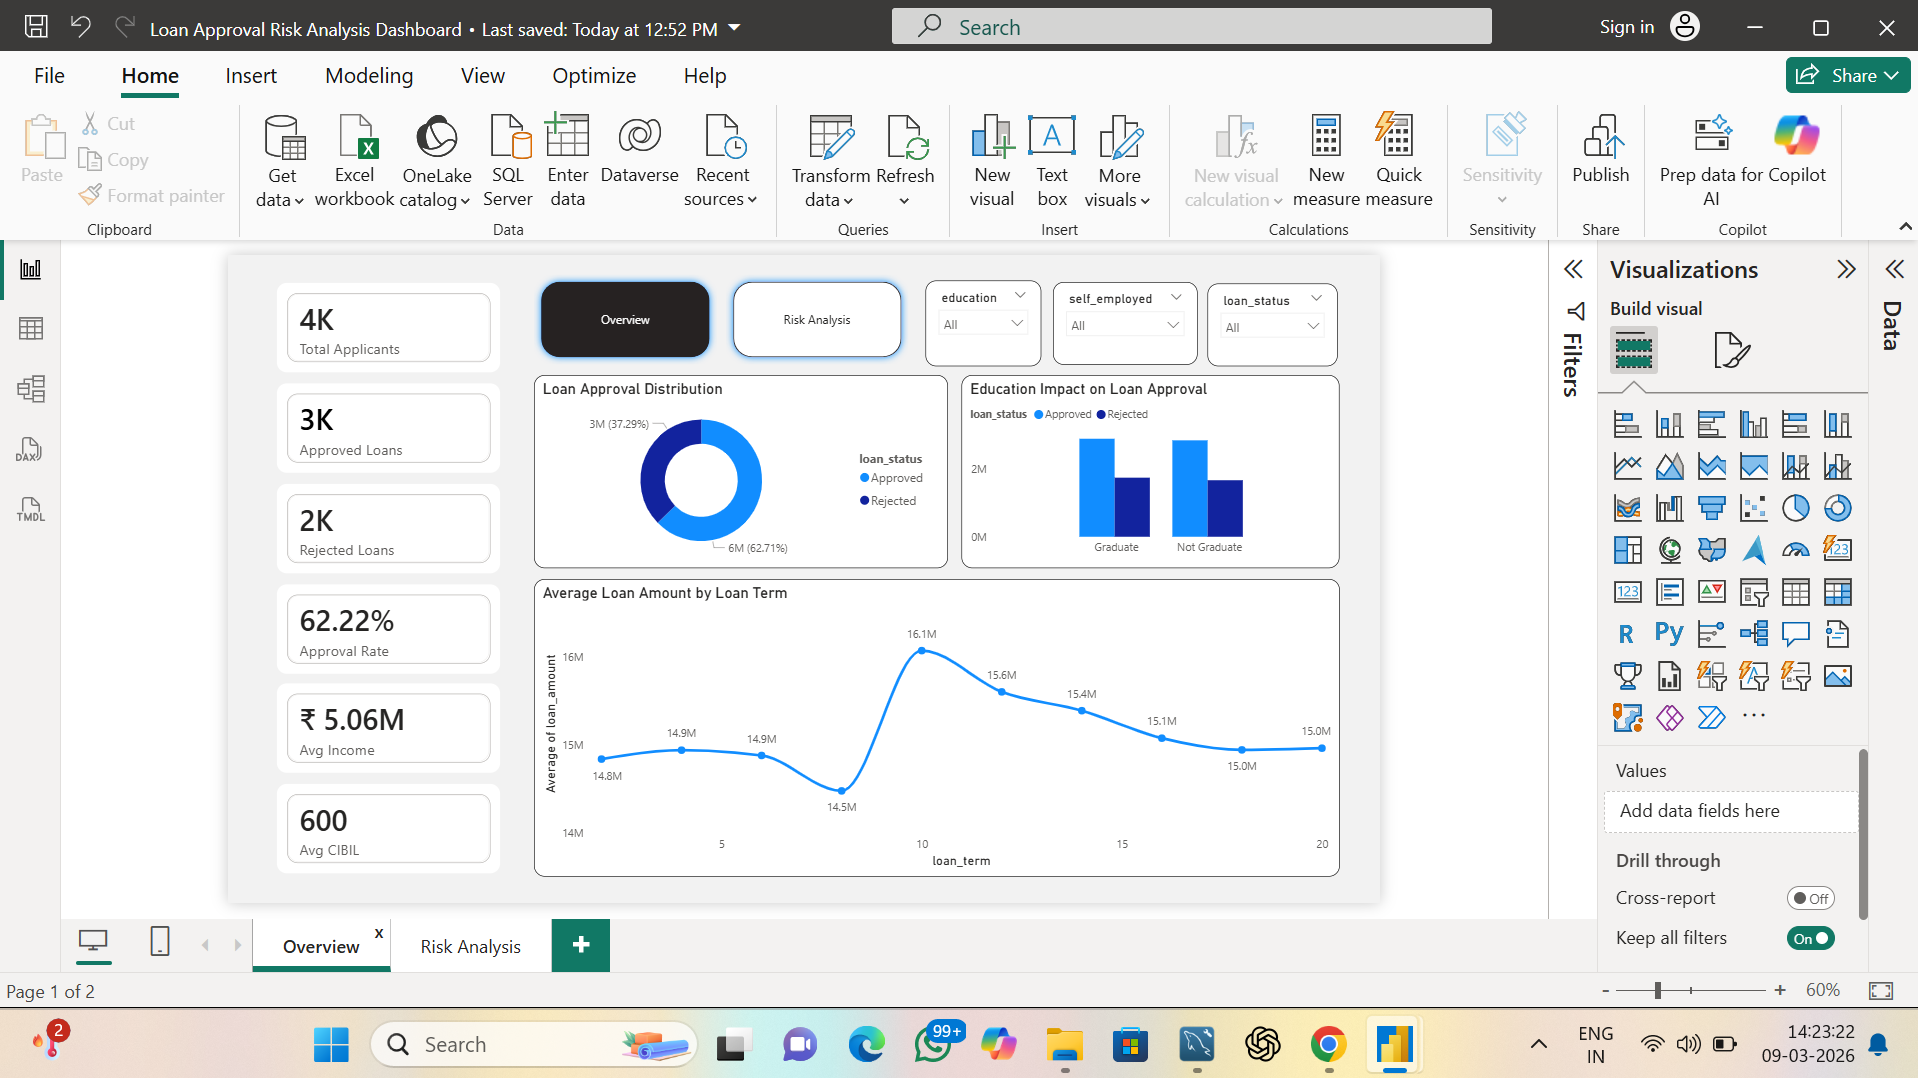

The page's visual inventory and layout, read from the dashboard file:
{"tool":"powerbi","page":{"name":"Overview","canvas":[1280,720],"ordinal":0},"visuals":[{"type":"cardVisual","fields":{"Data":["loan_data.Total Applicants"]},"box":[47.7,25.4,260.9,111.3],"z":0},{"type":"cardVisual","fields":{"Data":["loan_data.Approved Loans"]},"box":[47.7,136.8,260.9,111.3],"z":1000},{"type":"cardVisual","fields":{"Data":["loan_data.Rejected Loans"]},"box":[47.7,248.1,260.9,111.3],"z":2000},{"type":"cardVisual","fields":{"Data":["loan_data.Approval Rate"]},"box":[47.7,359.5,260.9,111.3],"z":3000},{"type":"cardVisual","fields":{"Data":["loan_data.Avg Income"]},"box":[47.7,470.8,260.9,111.3],"z":4000},{"type":"cardVisual","fields":{"Data":["loan_data.Avg CIBIL"]},"box":[47.7,582.2,260.9,111.3],"z":5000},{"type":"slicer","title":"Loan Approval Distribution","fields":{"Values":["loan_data.education"]},"box":[775.7,28.6,128.8,95.4],"z":6000},{"type":"clusteredColumnChart","title":"Education Impact on Loan Approval","fields":{"Category":["loan_data.education"],"Y":["Sum(loan_data.loan_id)"],"Series":["loan_data.loan_status"]},"box":[815.5,133.6,419.9,214.7],"z":7000},{"type":"lineChart","title":"Average Loan Amount by Loan Term","fields":{"Category":["loan_data. loan_term"],"Y":["Avg(loan_data. loan_amount)"]},"box":[340.4,359.5,895.5,330.8],"z":8000},{"type":"slicer","fields":{"Values":["loan_data.self_employed"]},"box":[917.3,30.2,160.7,92.3],"z":9000},{"type":"slicer","fields":{"Values":["loan_data.loan_status"]},"box":[1089,31.8,144.7,92.3],"z":10000},{"type":"donutChart","title":"Loan Approval Distribution","fields":{"Category":["loan_data.loan_status"],"Y":["Sum(loan_data.loan_id)"]},"box":[339.9,133.6,459.7,214.7],"z":11000},{"type":"pageNavigator","box":[339.9,22.3,416.7,100.2],"z":12000}]}

Visuals, with their boxes on the page's 1280x720 design canvas (x1, y1, x2, y2). These are canvas units, not pixel positions in the 1918x1078 screenshot, which may show the page scaled, cropped or inside an application window:
cardVisual - loan_data.Total Applicants: bbox(48, 25, 309, 137)
cardVisual - loan_data.Approved Loans: bbox(48, 137, 309, 248)
cardVisual - loan_data.Rejected Loans: bbox(48, 248, 309, 359)
cardVisual - loan_data.Approval Rate: bbox(48, 360, 309, 471)
cardVisual - loan_data.Avg Income: bbox(48, 471, 309, 582)
cardVisual - loan_data.Avg CIBIL: bbox(48, 582, 309, 694)
"Loan Approval Distribution" slicer: bbox(776, 29, 904, 124)
"Education Impact on Loan Approval" clusteredColumnChart: bbox(816, 134, 1235, 348)
"Average Loan Amount by Loan Term" lineChart: bbox(340, 360, 1236, 690)
slicer - loan_data.self_employed: bbox(917, 30, 1078, 122)
slicer - loan_data.loan_status: bbox(1089, 32, 1234, 124)
"Loan Approval Distribution" donutChart: bbox(340, 134, 800, 348)
pageNavigator: bbox(340, 22, 757, 122)
